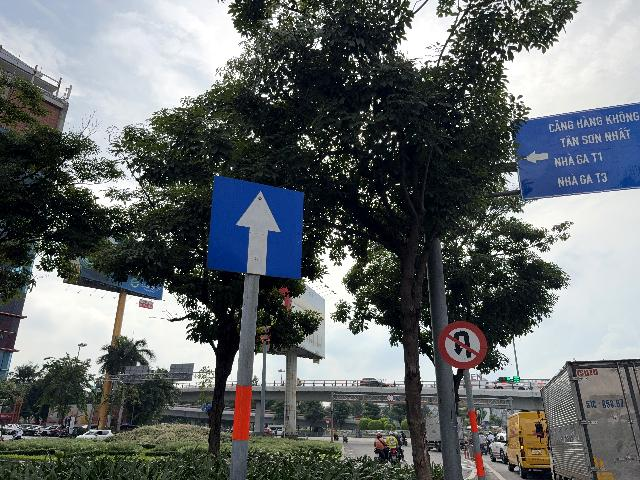cam-quay-dau-xe: (438, 321, 487, 370)
duong-mot-chieu: (206, 174, 303, 280)
